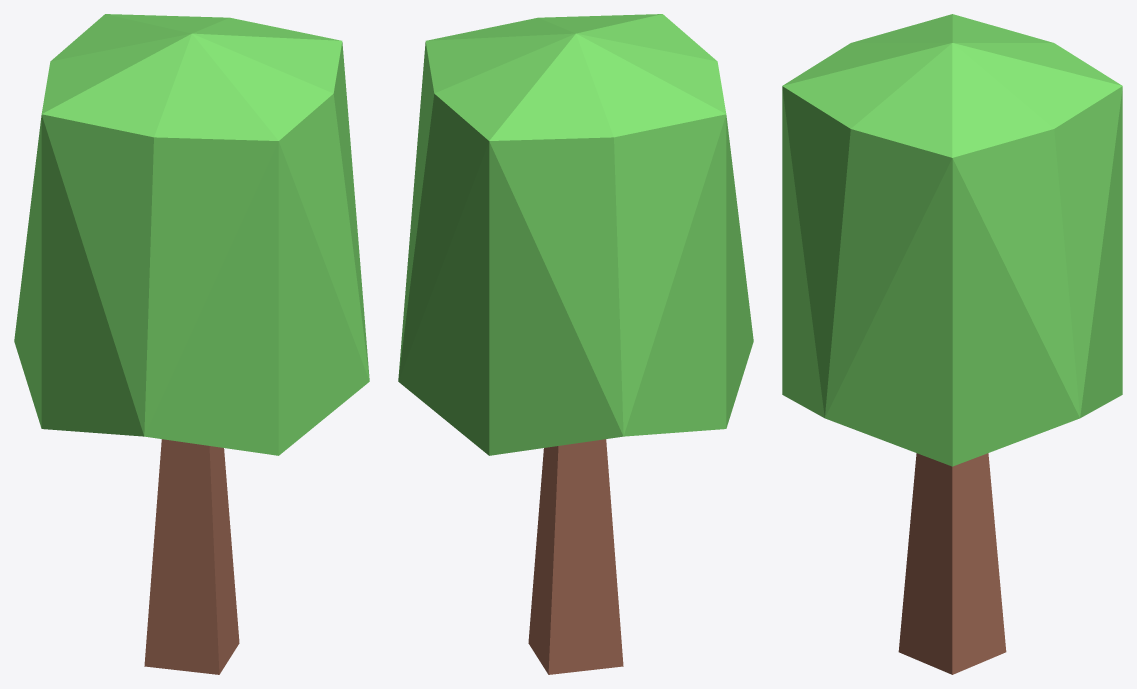
File: OakObj.fbx
3 renders of one model, left to right at view 1: azimuth 30°, elevation 25°; view 2: azimuth 150°, elevation 25°; view 3: azimuth 270°, elevation 25°, orthographic.
Visible parts, largest first — view 1: Oak; view 2: Oak; view 3: Oak.
Boxes of the visible parts, box(x1,y1,x2,y2) form: Oak: box(14, 14, 369, 674); Oak: box(398, 14, 753, 674); Oak: box(782, 14, 1122, 674).
Bounding box in the file's own units: 378 × 746 × 378.
